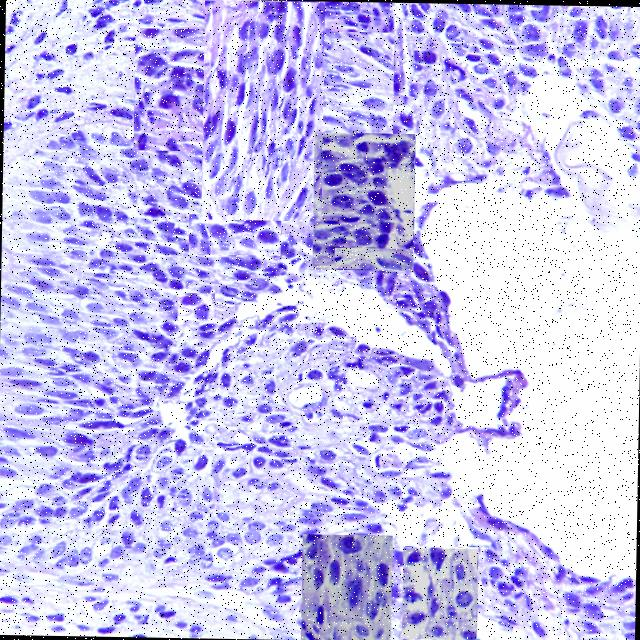Nuclear Hyperchromatism: (202, 0, 323, 218), (314, 132, 415, 269), (302, 533, 391, 640), (403, 547, 477, 637), (188, 214, 280, 254), (177, 294, 214, 318)
